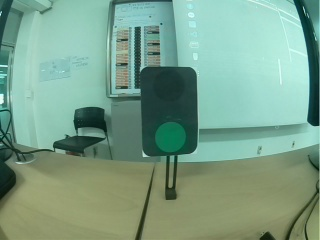green_light: (142, 71, 196, 156)
